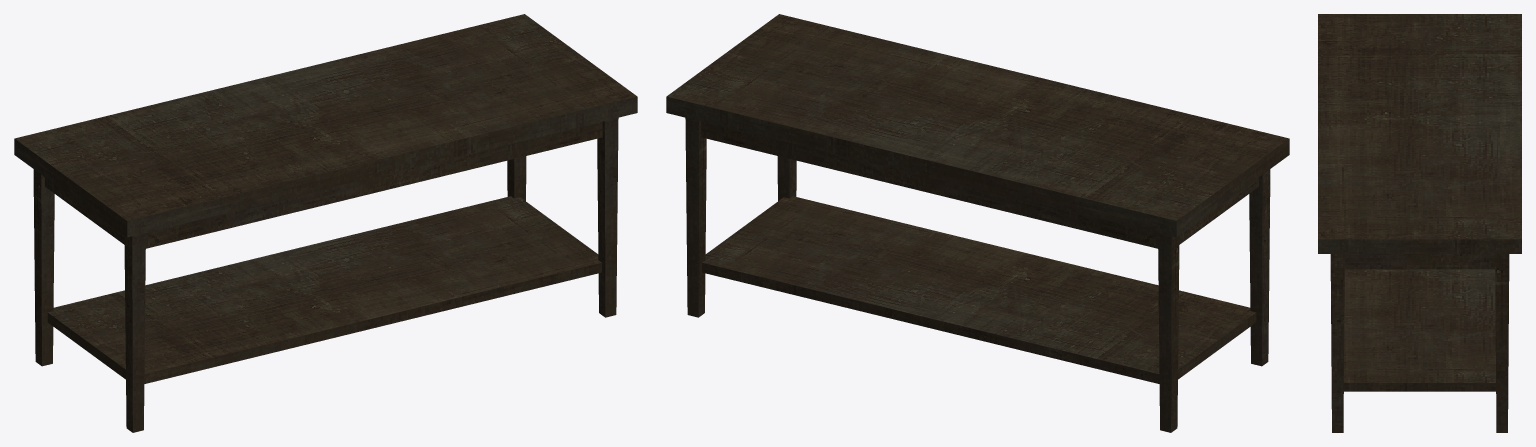
File: coffee_table_1_4.glb
3 views of the same model, side by side, from view 1: azimuth 30°, elevation 25°; view 2: azimuth 150°, elevation 25°; view 3: azimuth 270°, elevation 25° (orthographic). The views are drawn at different scales.
Visible parts, largest first — view 1: coffee_table_1_4; view 2: coffee_table_1_4; view 3: coffee_table_1_4.
Boxes of the visible parts, box(x1,y1,x2,y2) form: coffee_table_1_4: box(14, 14, 637, 432); coffee_table_1_4: box(666, 14, 1289, 432); coffee_table_1_4: box(1318, 14, 1521, 432).
Bounding box in the file's own units: 1.62 × 0.67 × 0.62.
Materials: 1 (1 with a texture image).
